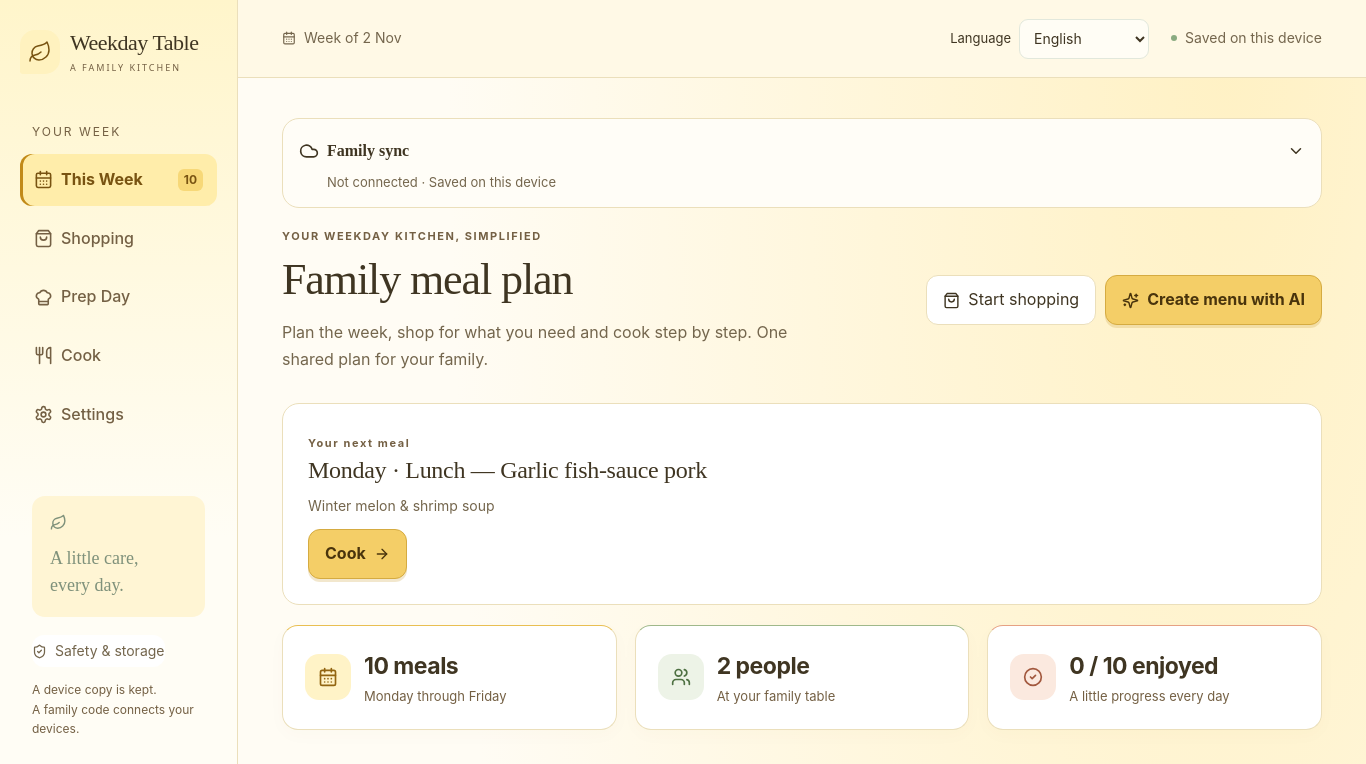
Scenario: family sync UI › retains local data when first sharing conflicts with an existing family copy
Check: the navigation bar is shown, box [20,154,217,440]
Click the button "Family sync".
click(368, 150)  # box [299,129,1305,173]
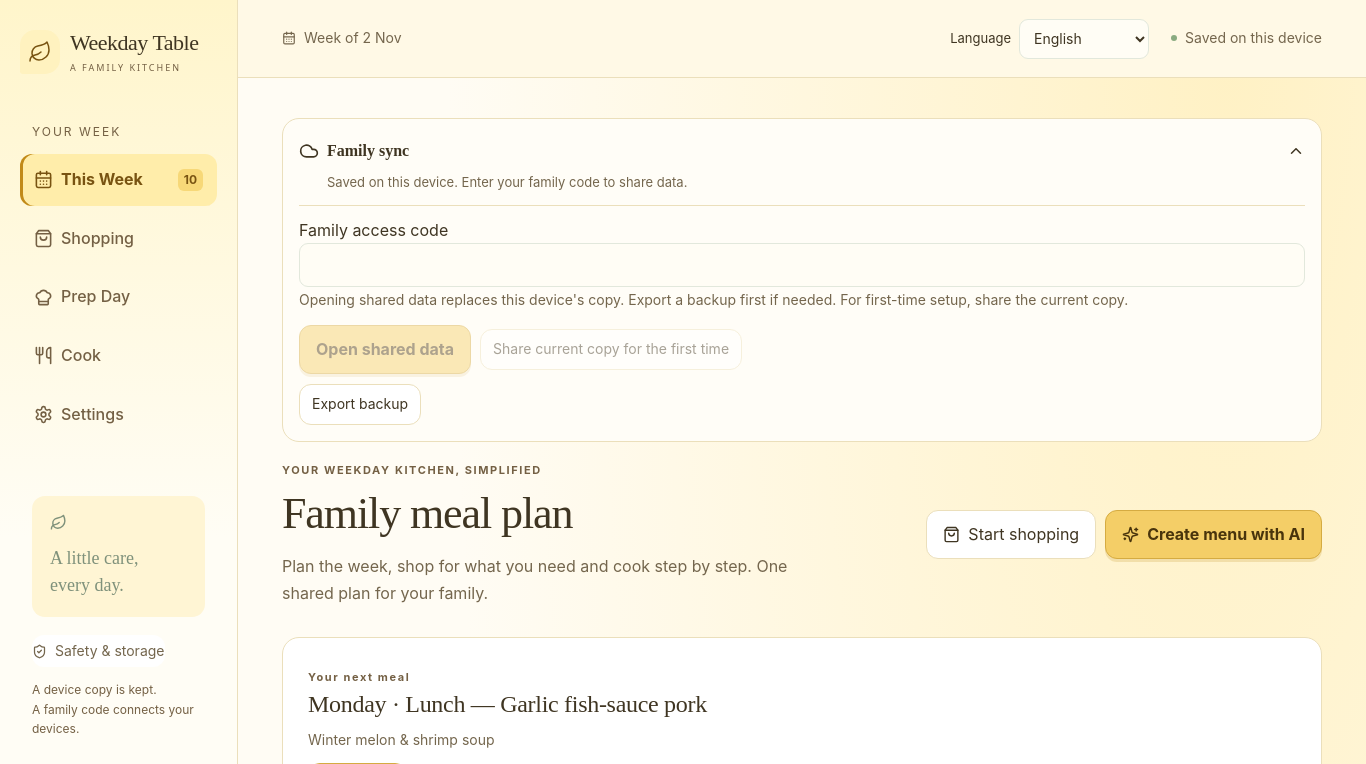
Type "test-only-family-access-code" into the password field labelled "Family access code".
click(802, 265); type("test-only-family-access-code")  # box [299,243,1305,288]
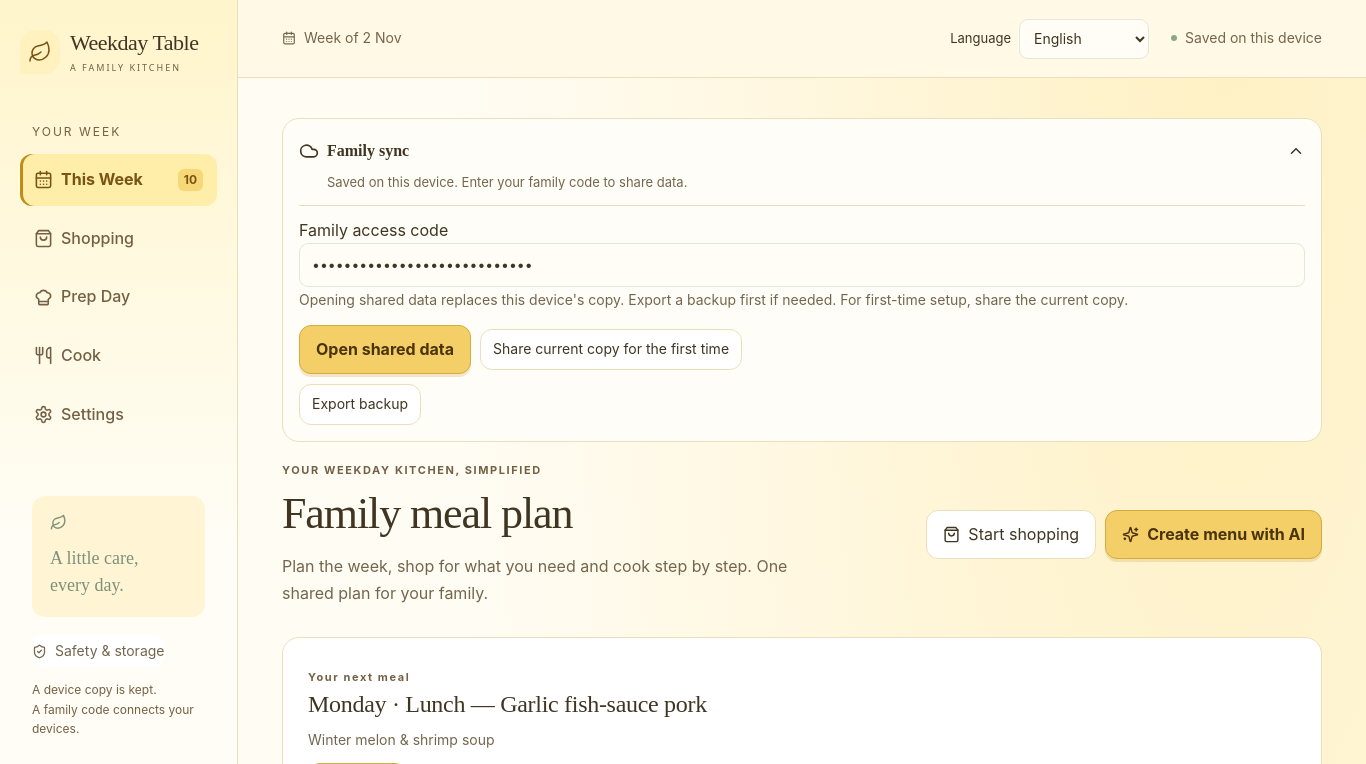
Click the button "Share current copy for the first time".
click(611, 350)  # box [480,329,742,370]
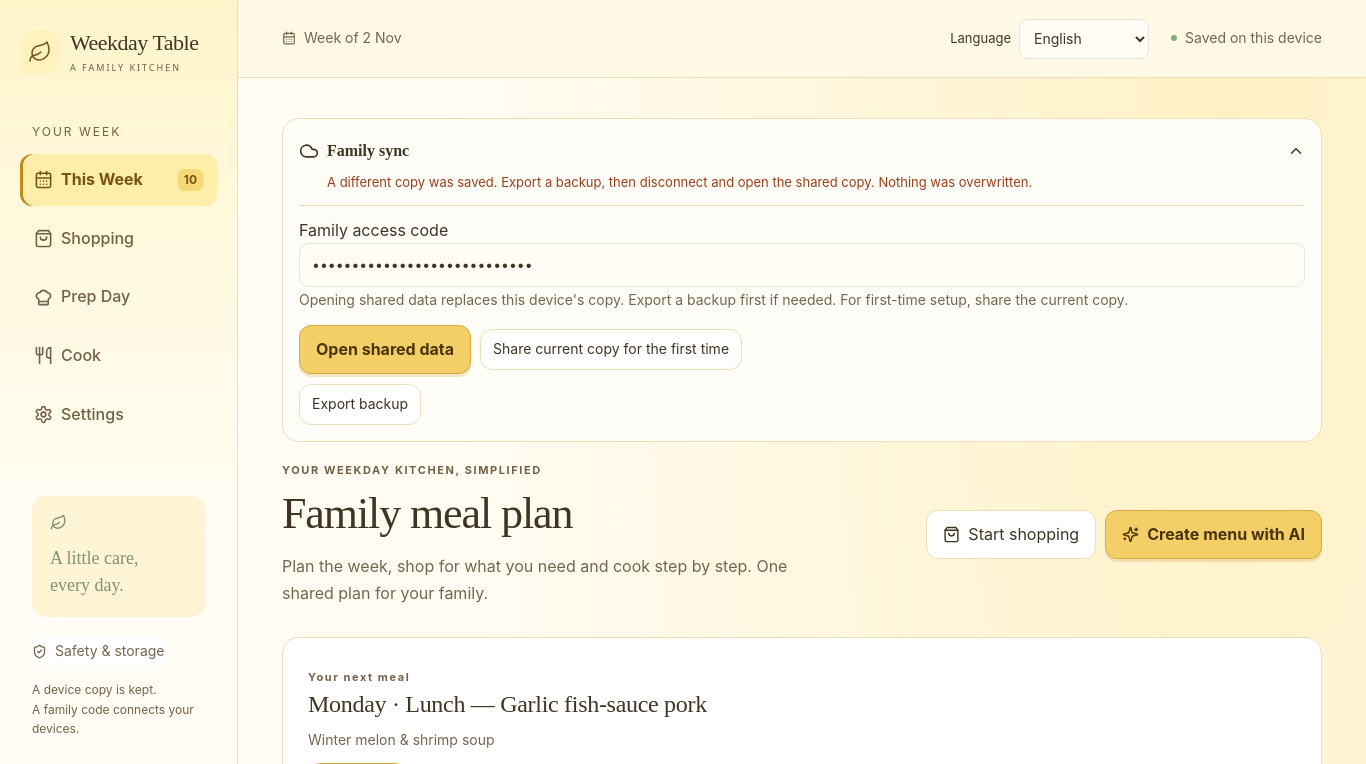
Check: the text "A different copy was saved" is shown, box [327,174,1032,190]
